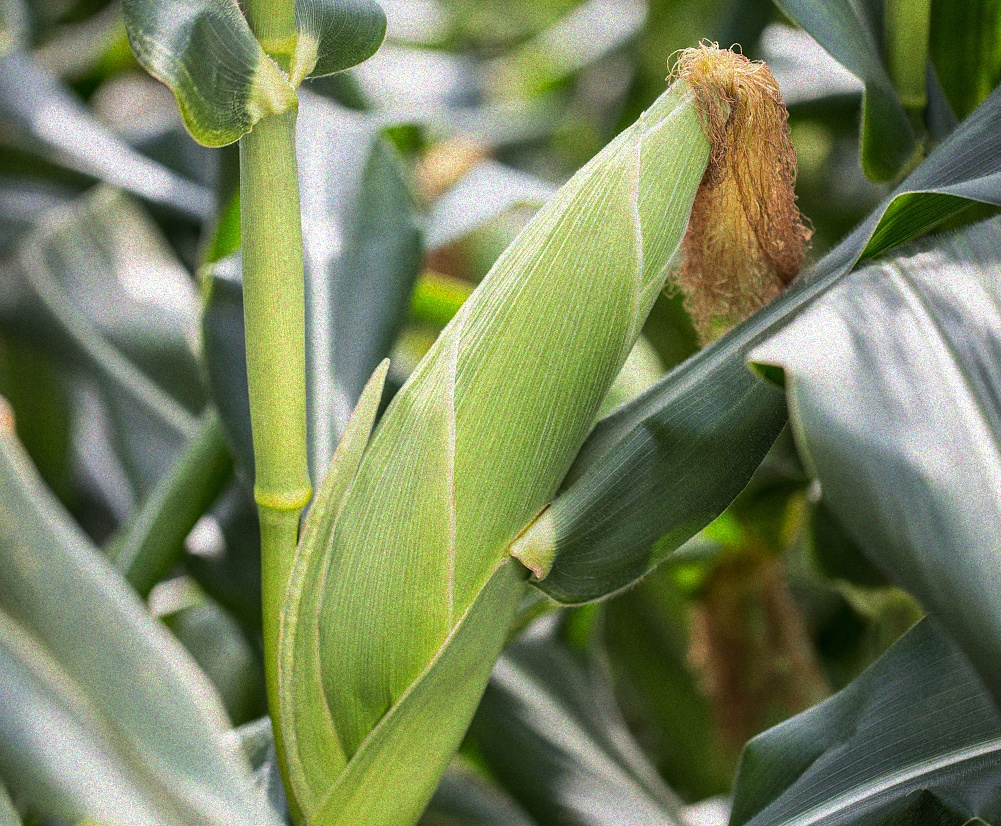corn_plant: (275, 22, 814, 813)
